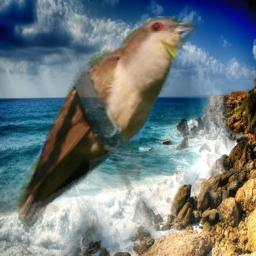Cuckoo: (10, 16, 195, 232)
